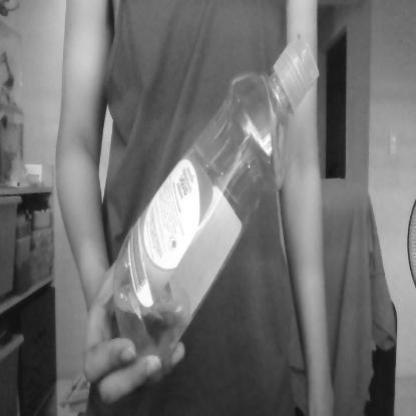Plastic Bottle: (110, 25, 321, 372)
